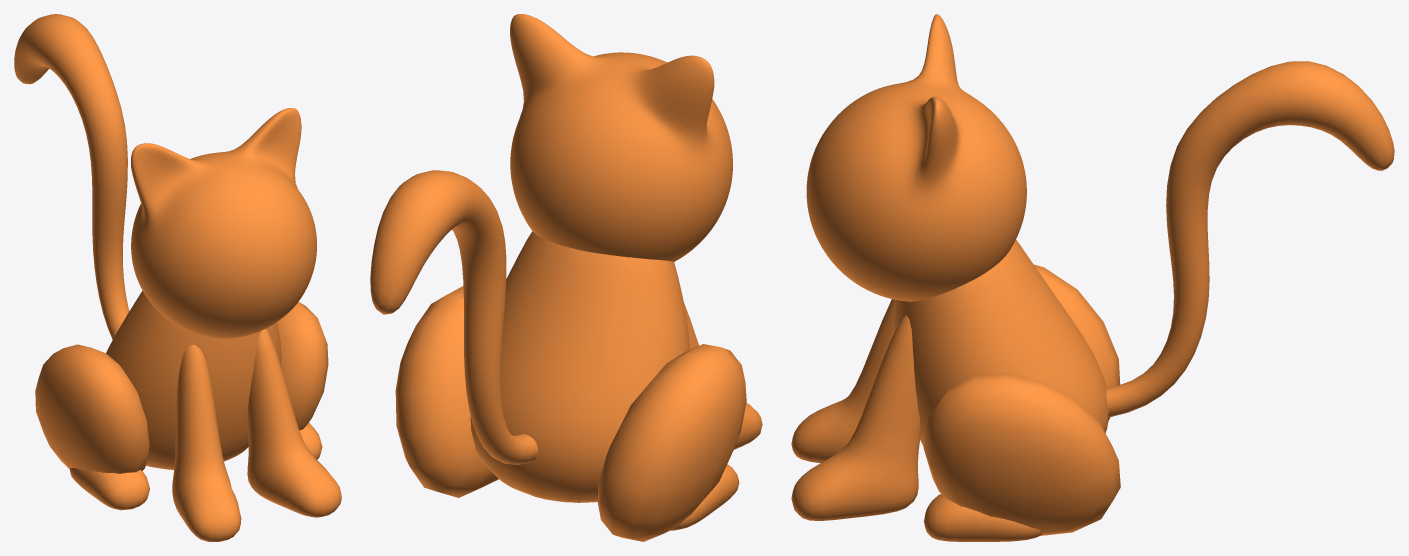
File: catStatue 1.fbx
The picture shows the model from 3 angles, left to right: view 1: azimuth 30°, elevation 25°; view 2: azimuth 150°, elevation 25°; view 3: azimuth 270°, elevation 25°; orthographic projection. The views are drawn at different scales.
Parts seen in each view (by area): view 1: Roundcube, Plane.002, Plane, Vert, Circle, Plane.001; view 2: Roundcube, Circle, Plane, Vert, Plane.001, Plane.002; view 3: Roundcube, Plane, Vert, Circle, Plane.002, Plane.001.
Part boxes in pixels (x1,y1,x2,y2): Roundcube: [131, 108, 316, 338]; Plane.002: [172, 329, 341, 541]; Plane: [35, 302, 328, 473]; Vert: [14, 14, 129, 339]; Circle: [106, 291, 281, 469]; Plane.001: [69, 423, 322, 510]; Roundcube: [510, 14, 732, 261]; Circle: [470, 231, 689, 502]; Plane: [395, 286, 746, 541]; Vert: [370, 170, 537, 464]; Plane.001: [670, 464, 739, 530]; Plane.002: [683, 302, 762, 449]; Roundcube: [806, 14, 1026, 301]; Plane: [923, 264, 1120, 535]; Vert: [1106, 61, 1394, 417]; Circle: [894, 239, 1108, 446]; Plane.002: [791, 299, 920, 520]; Plane.001: [923, 494, 1042, 541].
Bounding box in the file's own units: 241 × 326 × 415.
